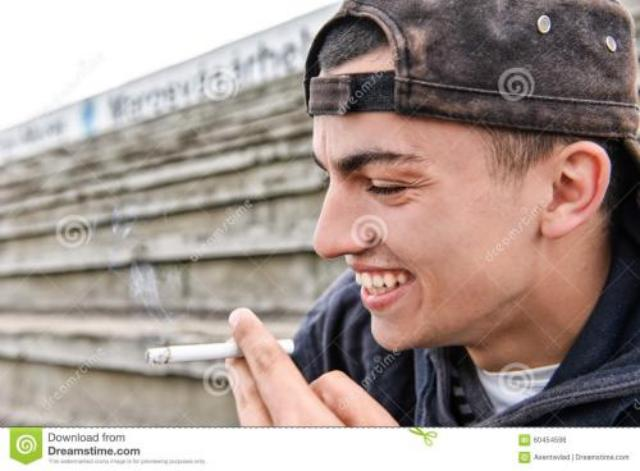Cigarette: (136, 336, 302, 366)
